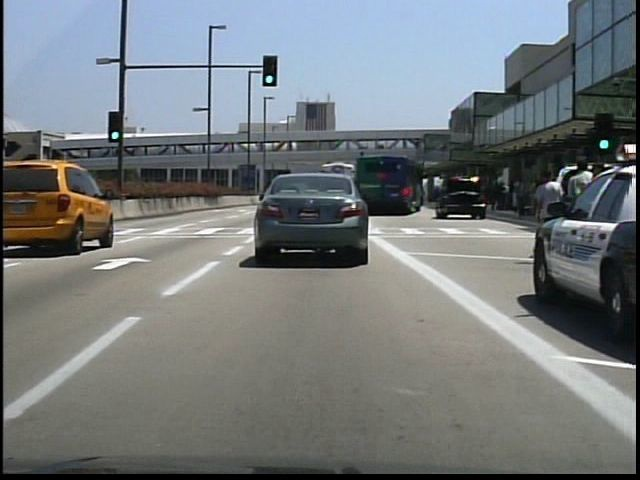person: (566, 153, 603, 273), (528, 162, 568, 265), (26, 166, 43, 228), (45, 170, 66, 218)
